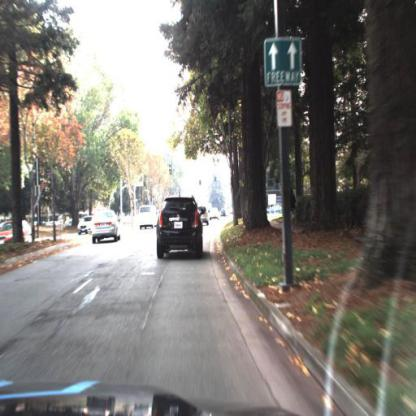biker: (285, 186, 300, 228)
car: (156, 194, 203, 261), (92, 208, 121, 245), (1, 221, 34, 251), (138, 200, 160, 233), (138, 201, 159, 229), (77, 214, 95, 235), (210, 207, 224, 223)
